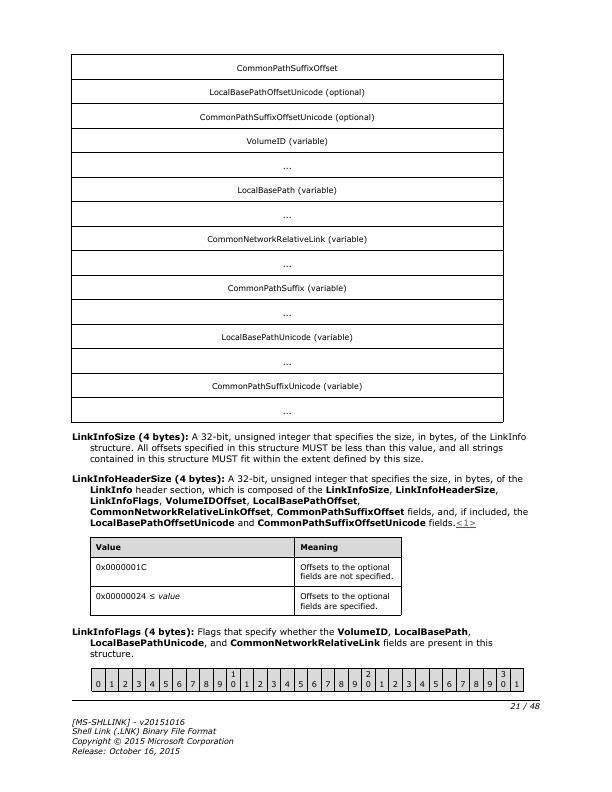table: (68, 52, 507, 424), (88, 536, 404, 619), (88, 666, 527, 694)
text: (68, 473, 530, 529), (68, 431, 530, 465), (68, 624, 492, 659), (68, 715, 236, 758)
